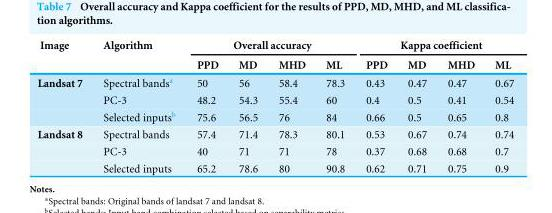table: (36, 37, 513, 174)
table column: (92, 37, 185, 174), (36, 37, 92, 174), (267, 37, 315, 174), (436, 37, 484, 174), (354, 37, 397, 174), (185, 37, 227, 174), (227, 37, 267, 174), (315, 37, 354, 174), (397, 37, 436, 174), (484, 37, 513, 174)
table column header: (36, 37, 513, 72)
table row: (36, 53, 513, 72), (36, 72, 513, 90), (36, 141, 513, 159), (36, 90, 513, 107), (36, 107, 513, 124), (36, 124, 513, 141), (36, 37, 513, 53), (36, 159, 513, 174)
table spanning cell: (92, 37, 185, 72), (36, 72, 92, 124), (36, 124, 92, 174), (185, 37, 354, 53), (354, 37, 513, 53), (36, 37, 92, 72)
